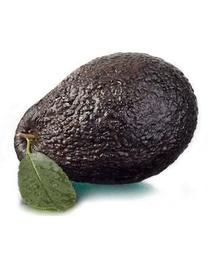avocado: (13, 52, 197, 186)
